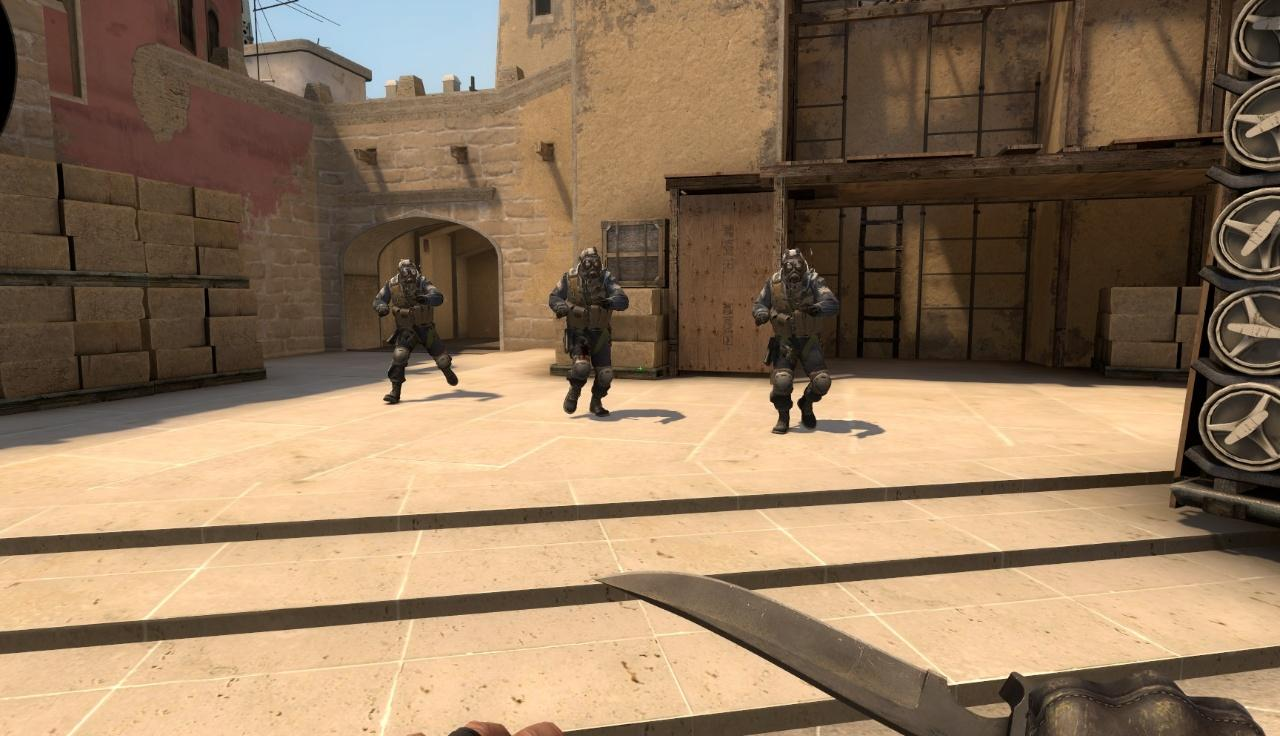ct: (752, 249, 840, 435), (549, 247, 629, 417), (373, 260, 458, 403)
cthead: (781, 250, 806, 282), (578, 247, 602, 278), (396, 259, 418, 285)
